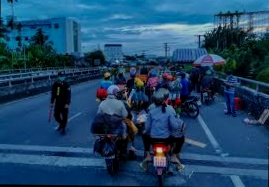Bien-so: (151, 162, 164, 173)
